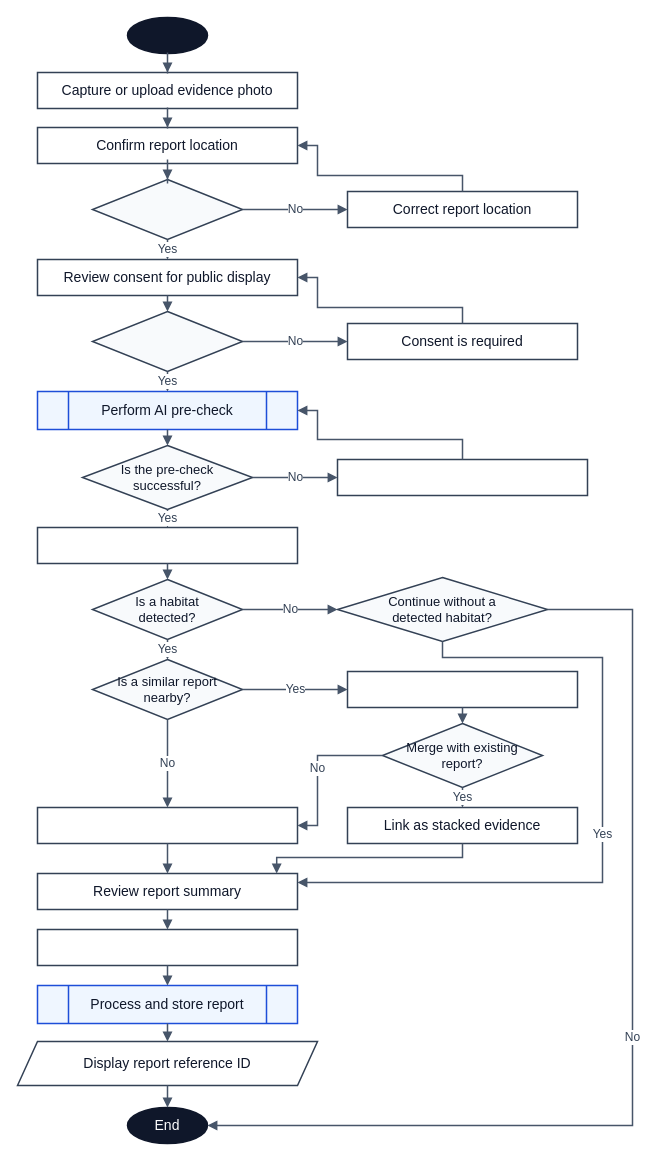
Image size: 659x1162. Some labels were removed from this diagram. Here are the shapes that lost their labels. From the top down, the centre of each, then its label:
At point 167,35: "Start".
At point 167,209: "Is the location valid?".
At point 167,341: "Is consent accepted?".
At point 462,477: "Show pre-check error and retry".
At point 167,545: "Review AI advisory".
At point 462,689: "Review nearby report".
At point 167,825: "Create separate report".
At point 167,947: "Submit report".
